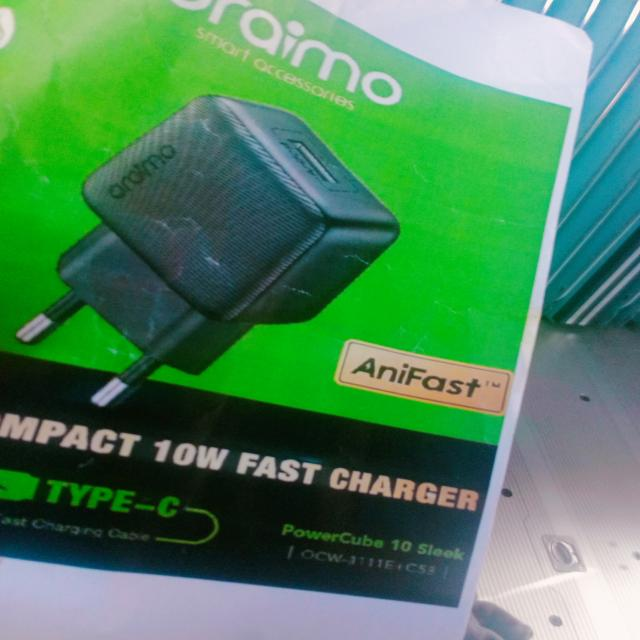PowerCube 10 Sleek OCW-1111ExL53: (268, 513, 475, 592)
